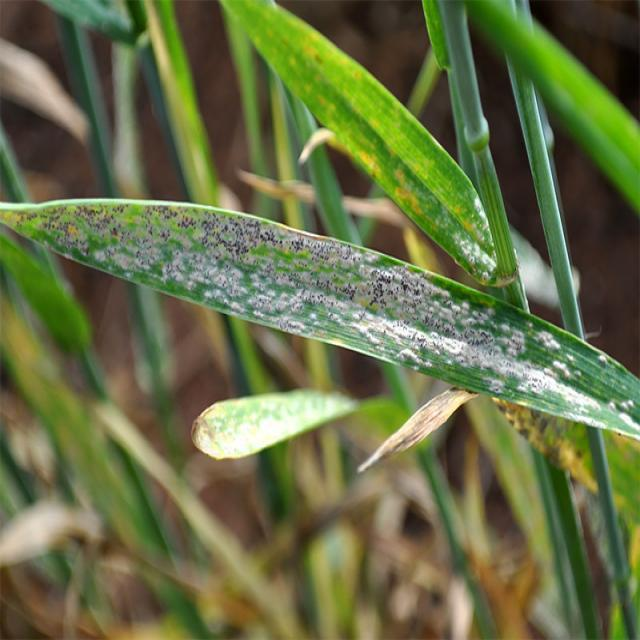wheat-powdery-mildew: (0, 198, 640, 450)
